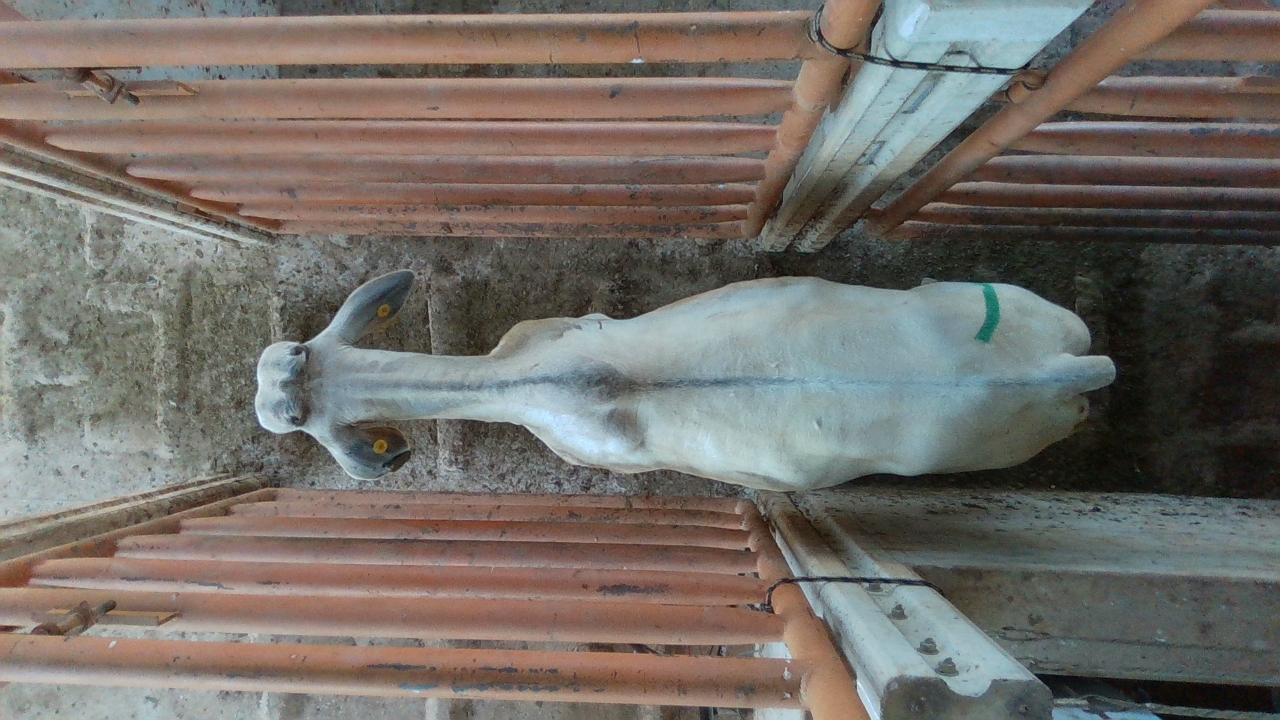cattle: (253, 266, 1117, 493)
